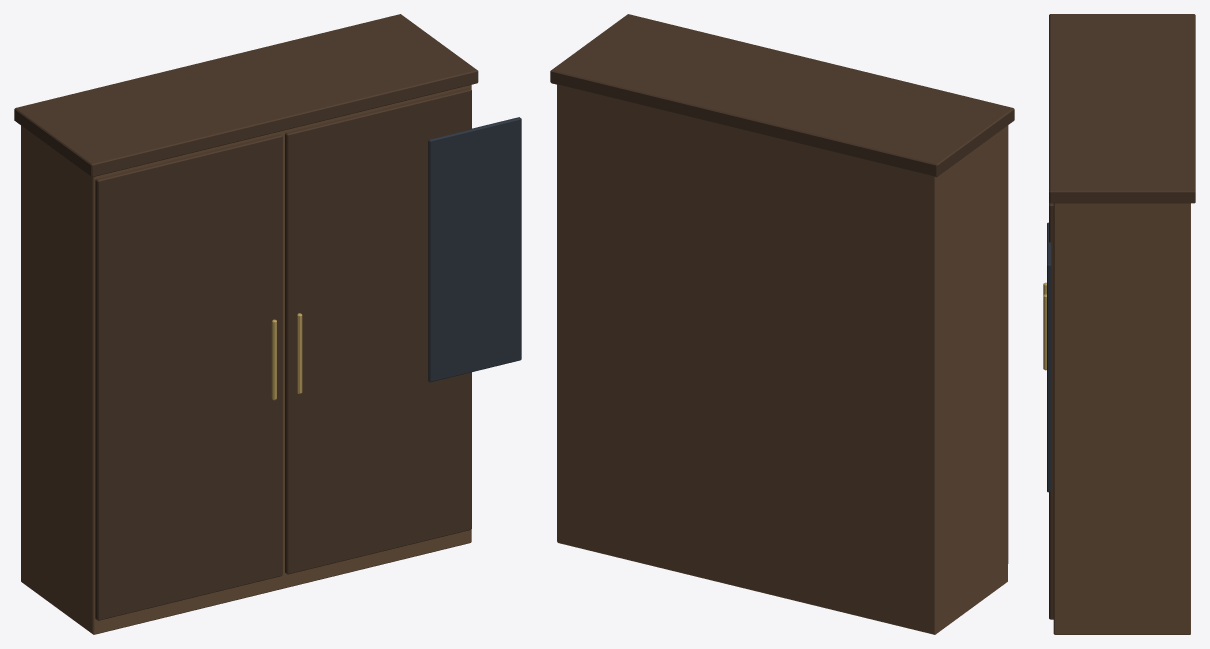
Rendered from PRP_Wardrobe_ND_v001.glb.
3 renders of one model, left to right at view 1: azimuth 30°, elevation 25°; view 2: azimuth 150°, elevation 25°; view 3: azimuth 270°, elevation 25°, orthographic. The views are drawn at different scales.
Visible parts, largest first — view 1: PRP_Wardrobe_ND_v001; view 2: PRP_Wardrobe_ND_v001; view 3: PRP_Wardrobe_ND_v001.
Part boxes in pixels (<box>): PRP_Wardrobe_ND_v001: <box>14,14,521,634</box>; PRP_Wardrobe_ND_v001: <box>550,14,1014,634</box>; PRP_Wardrobe_ND_v001: <box>1043,14,1195,634</box>.
Bounding box in the file's own units: 2.04 × 2.16 × 0.6652.
